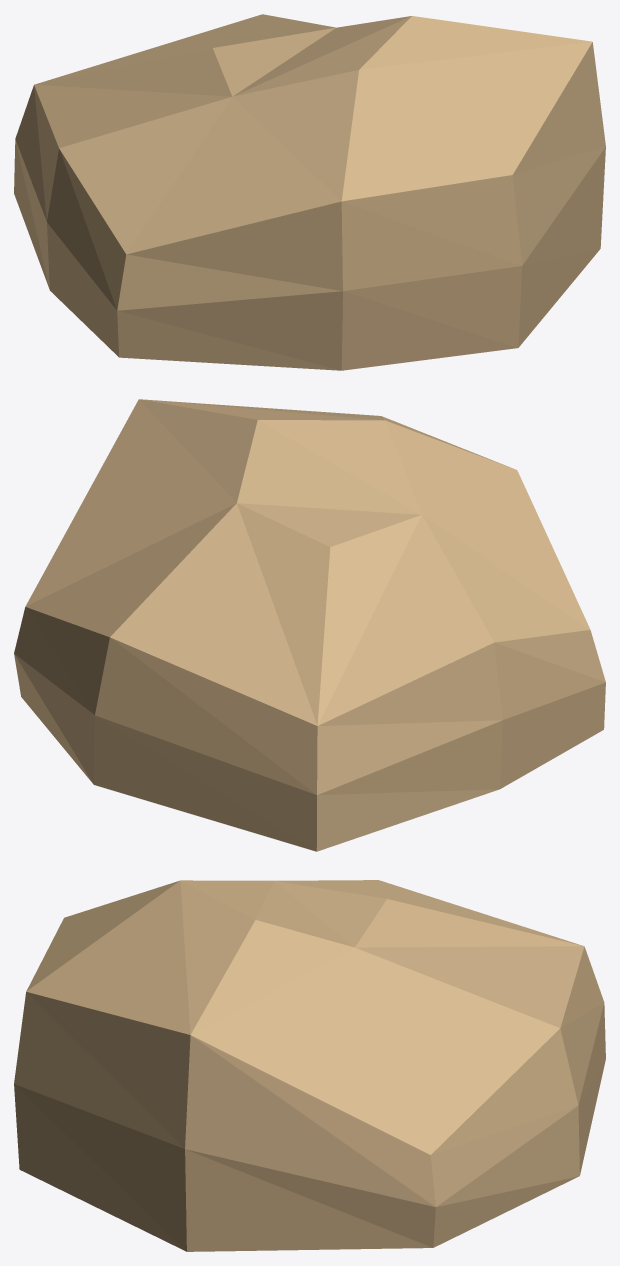
Rendered from SandRock1.gltf.
3 views of the same model, one above another, from view 1: azimuth 30°, elevation 25°; view 2: azimuth 150°, elevation 25°; view 3: azimuth 270°, elevation 25° (orthographic). The views are drawn at different scales.
Parts seen in each view (by area): view 1: SandRock1; view 2: SandRock1; view 3: SandRock1.
Boxes of the visible parts, x1,y1,x2,y2 form: SandRock1: [14, 14, 605, 370]; SandRock1: [14, 399, 605, 851]; SandRock1: [14, 880, 605, 1251].
Bounding box in the file's own units: 80.5 × 39.57 × 83.58.
